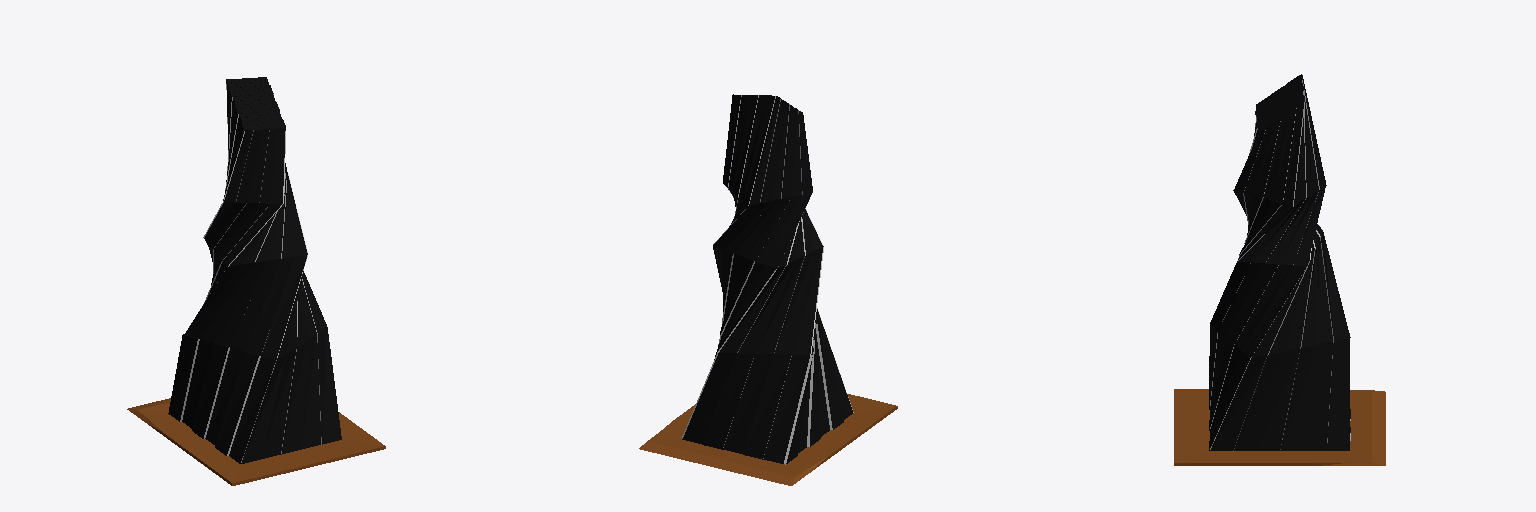
File: skyscraper5.obj
The picture shows the model from 3 angles: view 1: azimuth 30°, elevation 25°; view 2: azimuth 150°, elevation 25°; view 3: azimuth 270°, elevation 25°; orthographic projection.
Visible parts, largest first — view 1: city; view 2: city; view 3: city.
Boxes of the visible parts, <box> form: city: <box>127,77,385,485</box>; city: <box>639,94,897,485</box>; city: <box>1174,74,1385,465</box>.
Size of the model in its own units: 6.12 by 13.22 by 7.35.